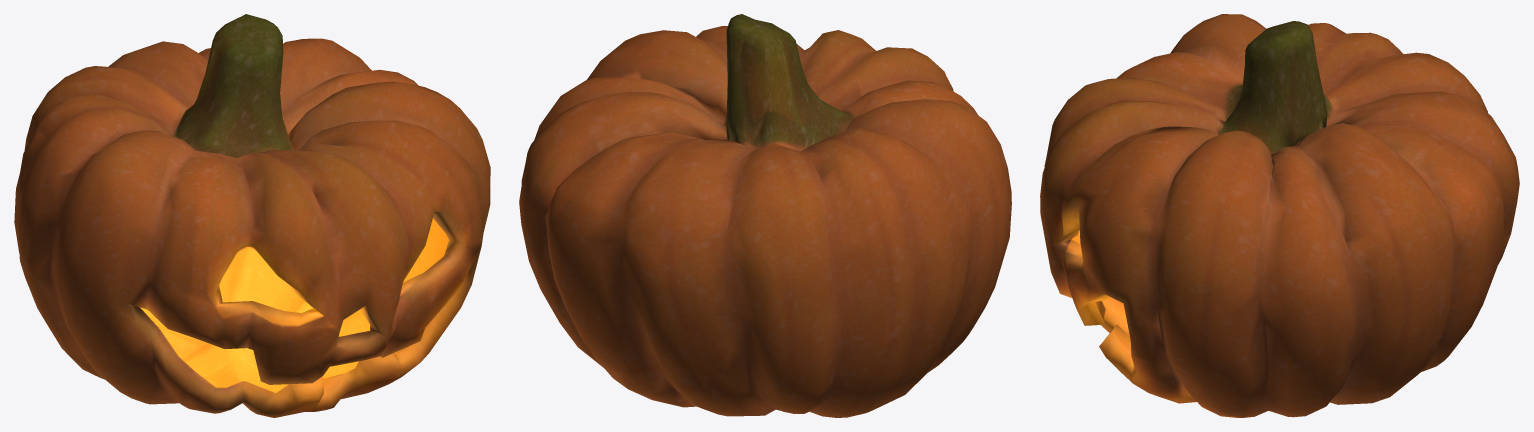
File: halloween_pumpkin.glb
3 views of the same model, side by side, from view 1: azimuth 30°, elevation 25°; view 2: azimuth 150°, elevation 25°; view 3: azimuth 270°, elevation 25° (orthographic). The views are drawn at different scales.
Parts seen in each view (by area): view 1: Halloween Pumpkin; view 2: Halloween Pumpkin; view 3: Halloween Pumpkin.
Part boxes in pixels (x1,y1,x2,y2): Halloween Pumpkin: (14, 14, 490, 417); Halloween Pumpkin: (519, 14, 1011, 417); Halloween Pumpkin: (1040, 14, 1519, 417).
Size of the model in its own units: 0.2837 by 0.2294 by 0.2817.
1 material, 1 textured.
